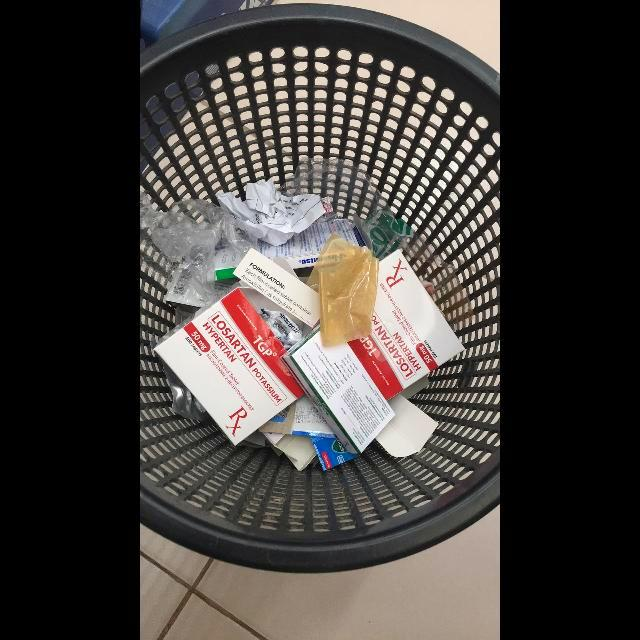cardboard: (154, 284, 304, 446), (347, 250, 465, 401), (282, 323, 396, 455), (258, 394, 358, 472), (258, 219, 359, 269), (375, 395, 439, 458), (213, 247, 242, 280)
paper: (215, 178, 326, 247), (232, 248, 320, 328)
plastic_bag: (140, 194, 253, 308)
